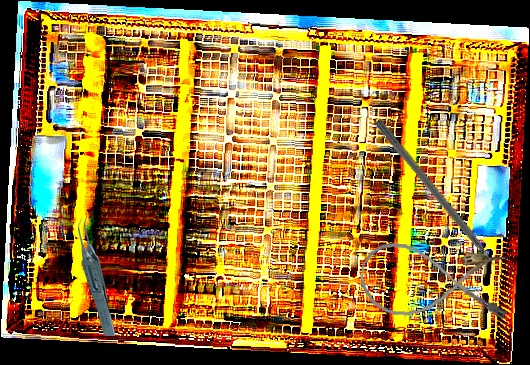Cannula: (357, 240, 512, 325)
Pusher: (372, 118, 506, 279)
Tissue Forceps: (78, 216, 116, 336)
